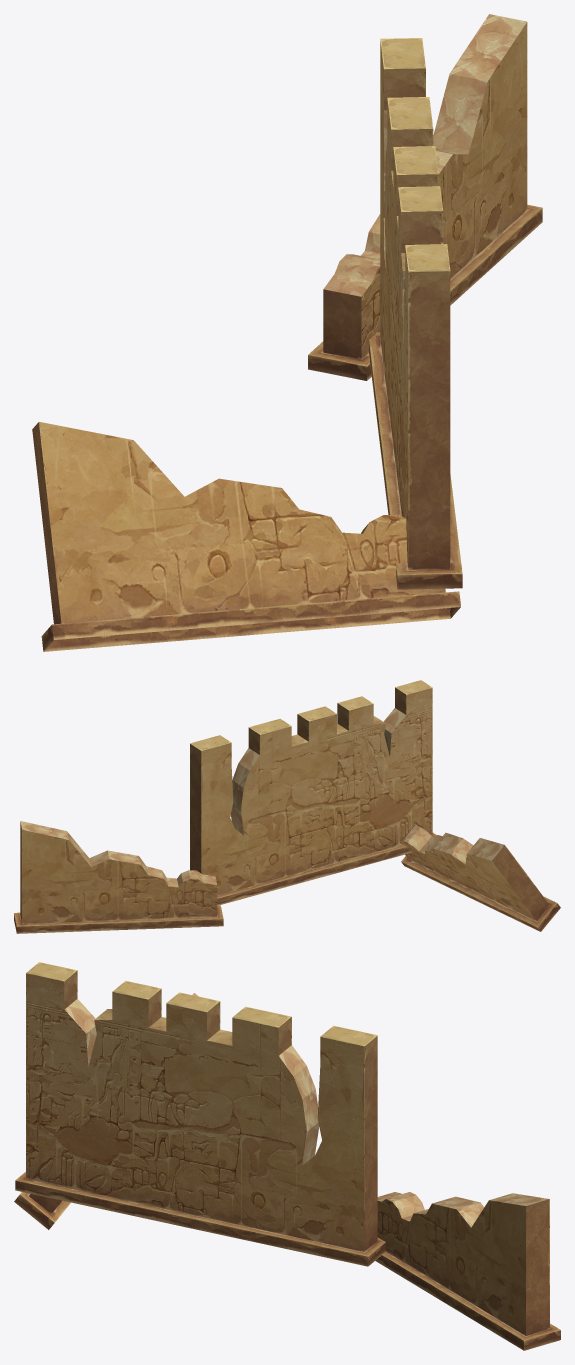
The model's file is Area_12_15.fbx.
3 views of the same model, one above another, from view 1: azimuth 30°, elevation 25°; view 2: azimuth 150°, elevation 25°; view 3: azimuth 270°, elevation 25° (orthographic). The views are drawn at different scales.
Parts seen in each view (by area): view 1: Area_12_15; view 2: Area_12_15; view 3: Area_12_15.
Part boxes in pixels (bbox=[...]): Area_12_15: bbox=[32, 14, 542, 651]; Area_12_15: bbox=[14, 680, 560, 933]; Area_12_15: bbox=[14, 962, 560, 1350].
Bounding box in the file's own units: 1479 × 651 × 1284.
